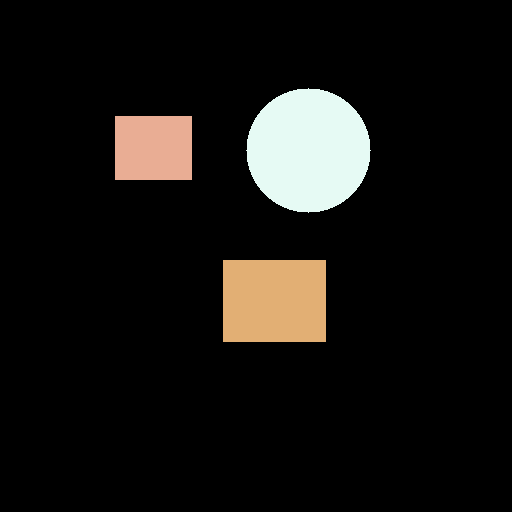circle: (246, 88, 370, 212)
rectangle: (223, 260, 325, 341), (115, 116, 191, 179)
